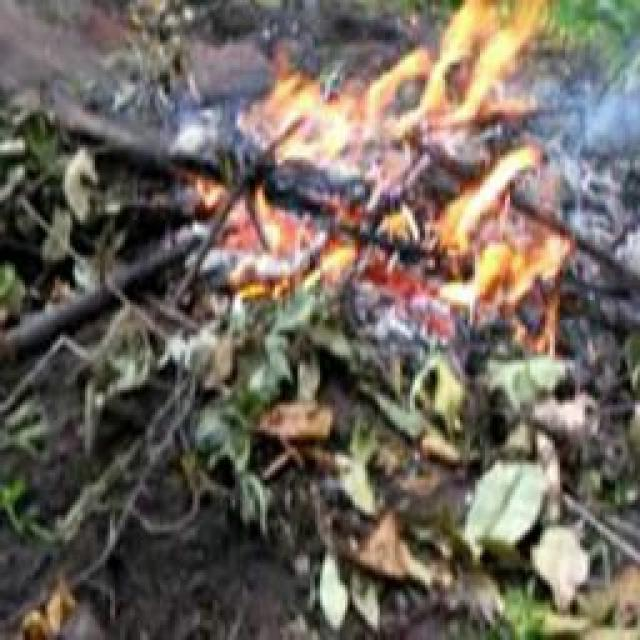Fire: (263, 1, 552, 170), (384, 141, 555, 350), (212, 185, 375, 303)
